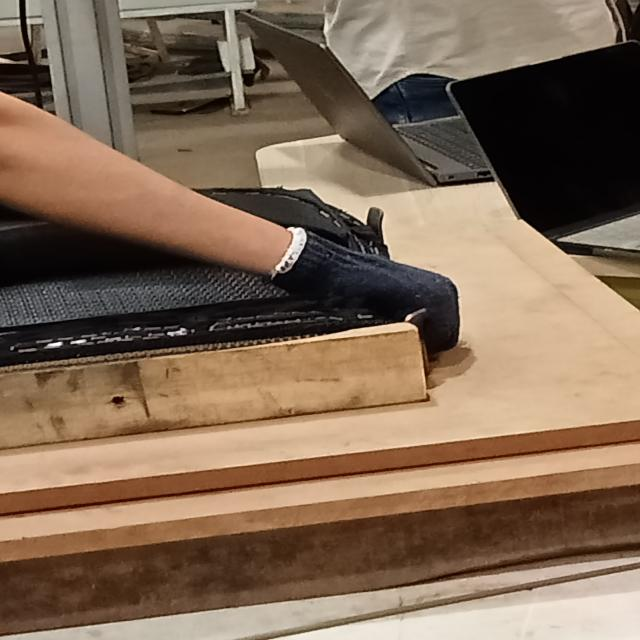Gloves-Detection: (285, 222, 461, 346)
